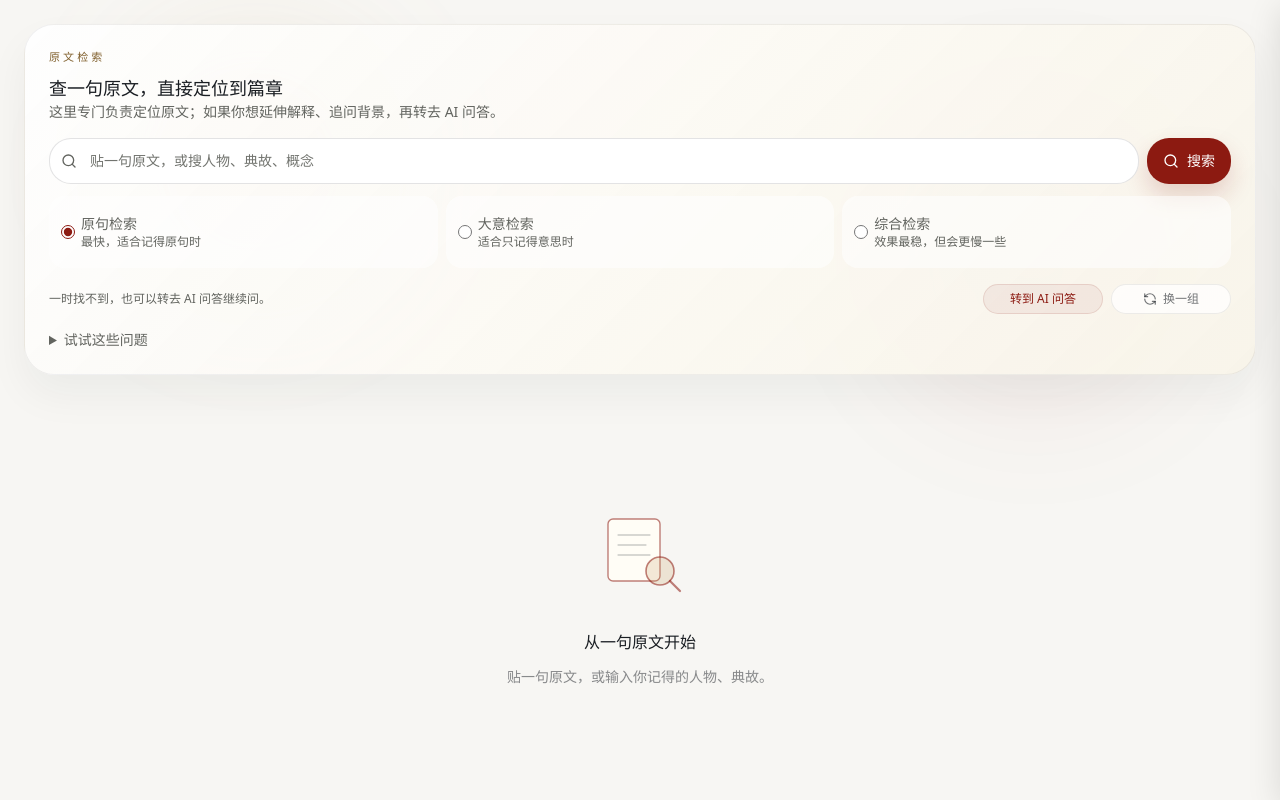
it: SearchPanel › displays search results with title, content, and source
The width and height of the screenshot is (1280, 800).
Type "逍遥游" into the field with placeholder "贴一句原文，或搜人物、典故、概念" at (594,160), box [49,138,1139,184]
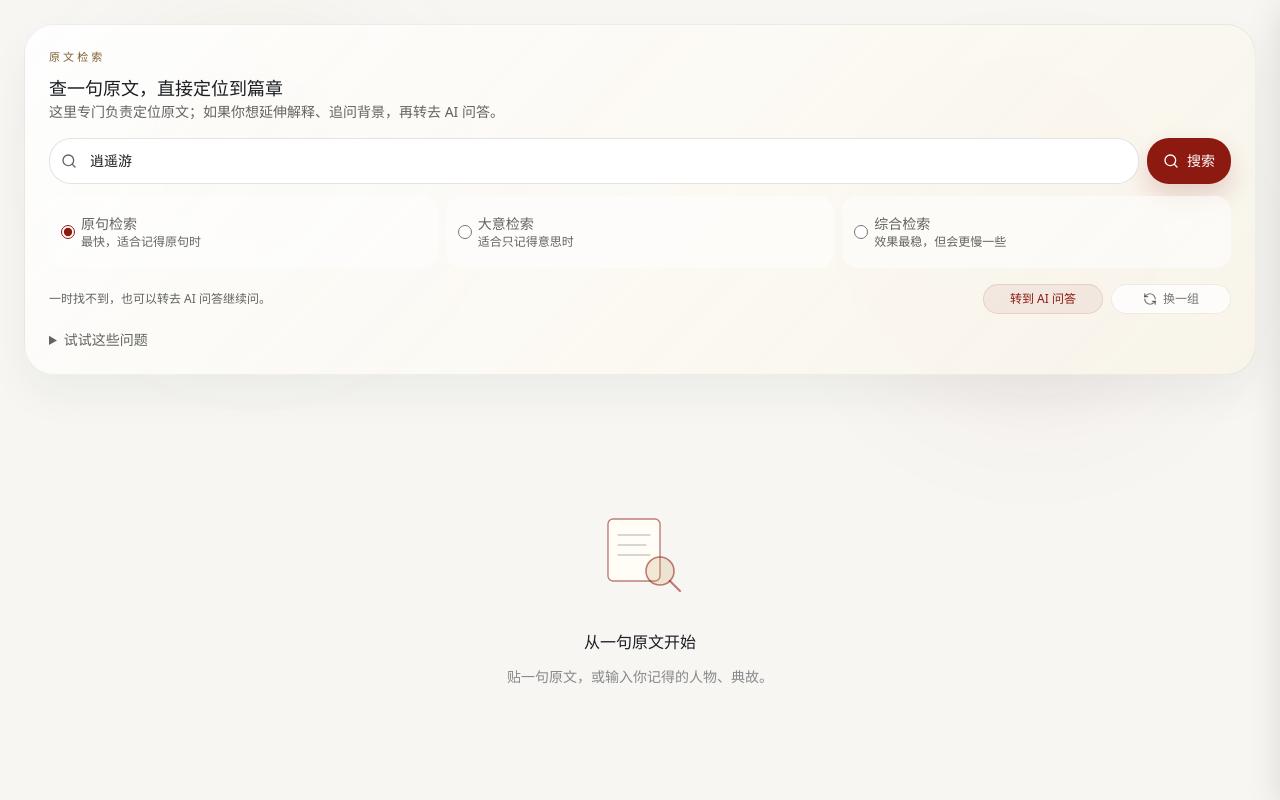
Click the button "搜索" at (1189,160), box [1147,138,1231,184]
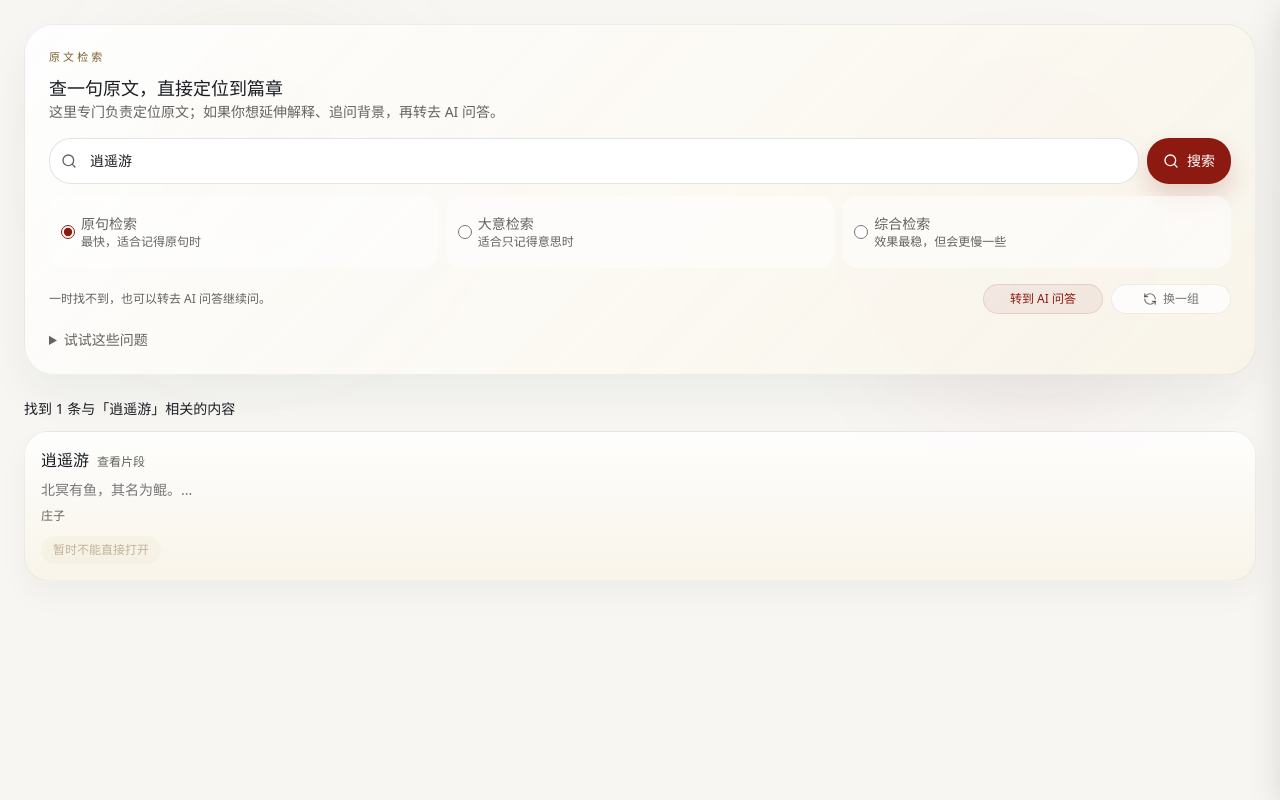
Result: the text "逍遥游" is shown at [41,448,89,470]
Result: the text "北冥有鱼，其名为鲲。..." is shown at [41,480,192,498]
Result: the text "庄子" is shown at [41,506,65,524]
